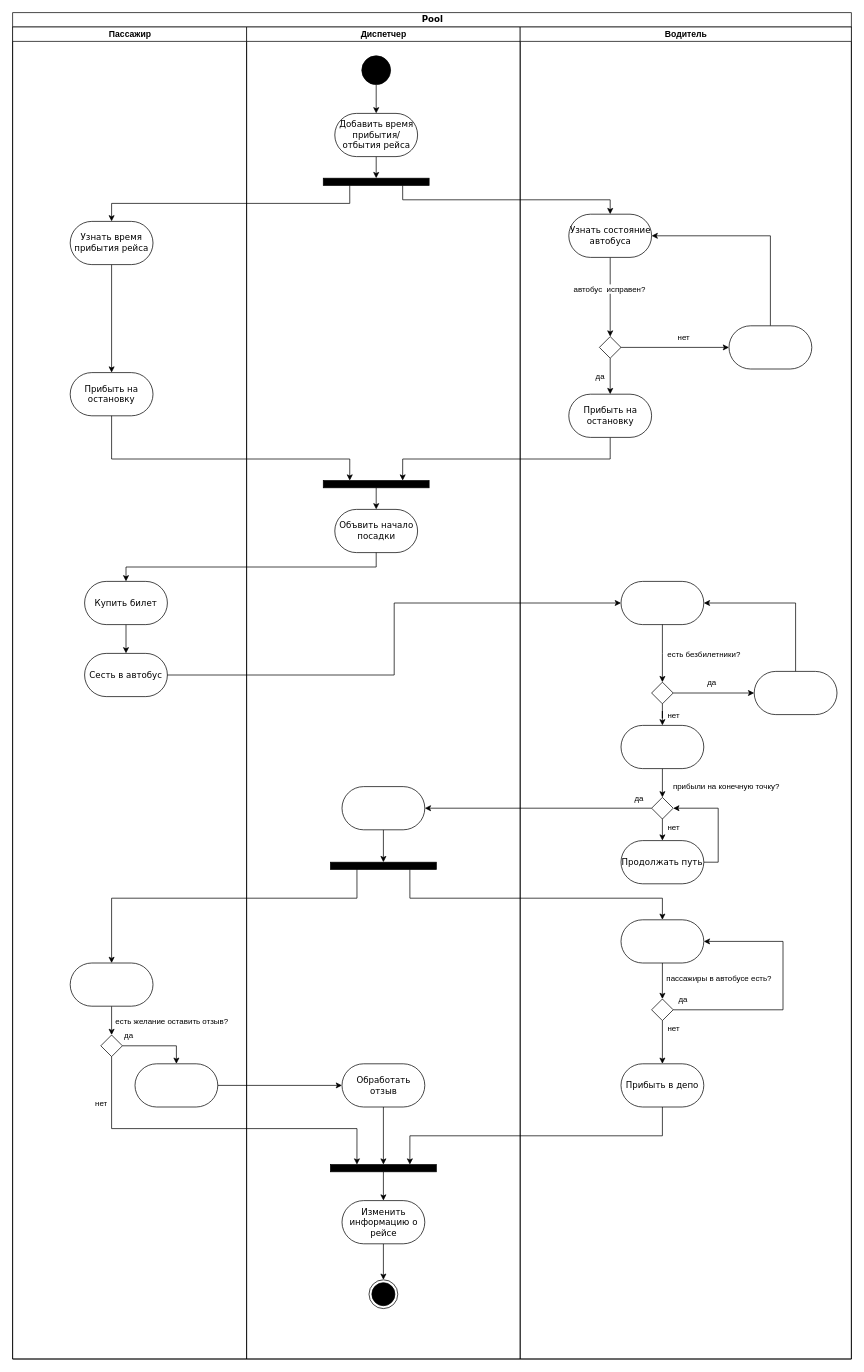
Some shapes in this 864 by 1372 pixel diagram are drawn without their labels. The centre of each missing label's shape, as x and y in pixels:
"Выйти из автобуса" belongs at point 111,984.
"Высадка безбилетников" belongs at point 795,693.
"Объвить начало высадки" belongs at point 383,808.
"Ожидать на стоянке" belongs at point 662,941.
"Оставить отзыв" belongs at point 176,1085.
"Отправиться в путь" belongs at point 662,747.
"Проверить билеты" belongs at point 662,603.
"Ремонт" belongs at point 770,347.
